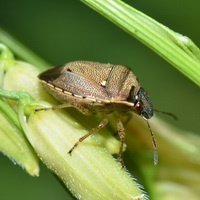insect: (39, 61, 152, 121)
